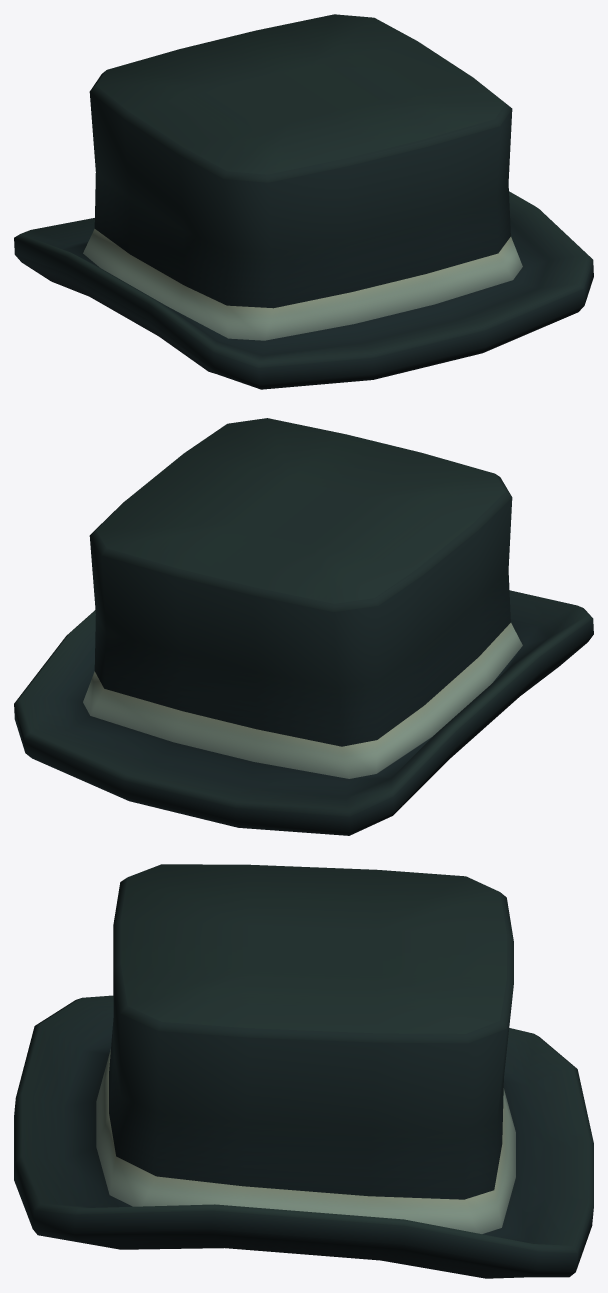
File: Hat_Stepellier.fbx
3 views of the same model, one above another, from view 1: azimuth 30°, elevation 25°; view 2: azimuth 150°, elevation 25°; view 3: azimuth 270°, elevation 25° (orthographic). The views are drawn at different scales.
Parts seen in each view (by area): view 1: Stepellier_Hat; view 2: Stepellier_Hat; view 3: Stepellier_Hat.
Part boxes in pixels (x1,y1,x2,y2): Stepellier_Hat: (14,14,593,389); Stepellier_Hat: (14,418,593,835); Stepellier_Hat: (14,864,593,1278).
Bounding box in the file's own units: 0.7425 × 0.4101 × 0.8245.
